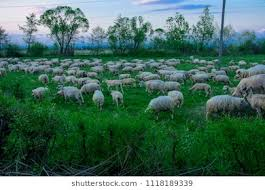sheep: (206, 94, 246, 120), (143, 95, 176, 122), (241, 87, 265, 119), (235, 63, 265, 80), (60, 86, 84, 104), (142, 78, 165, 96), (186, 81, 211, 97), (109, 89, 126, 108), (91, 89, 106, 109), (103, 76, 123, 91), (210, 73, 229, 84), (31, 87, 44, 101), (37, 73, 50, 86), (52, 74, 67, 85)
